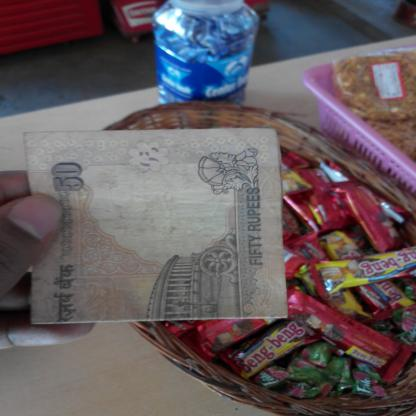Old50Back: (23, 127, 288, 324)
